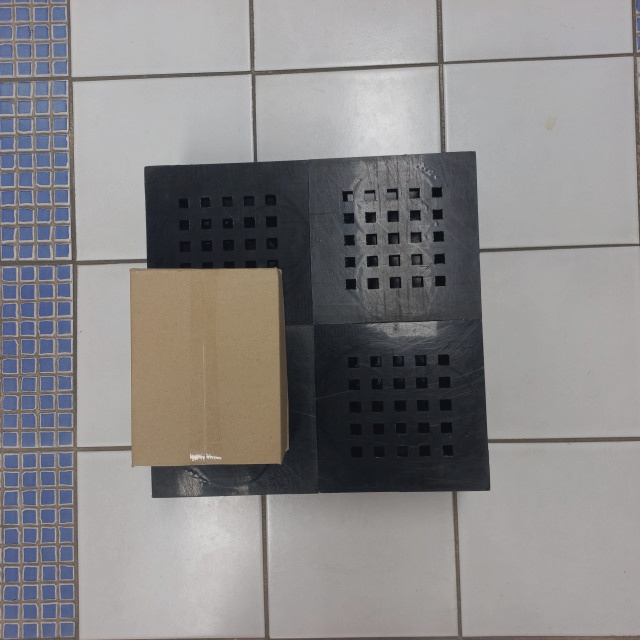box: (128, 264, 289, 469)
pallet: (125, 145, 495, 498)
